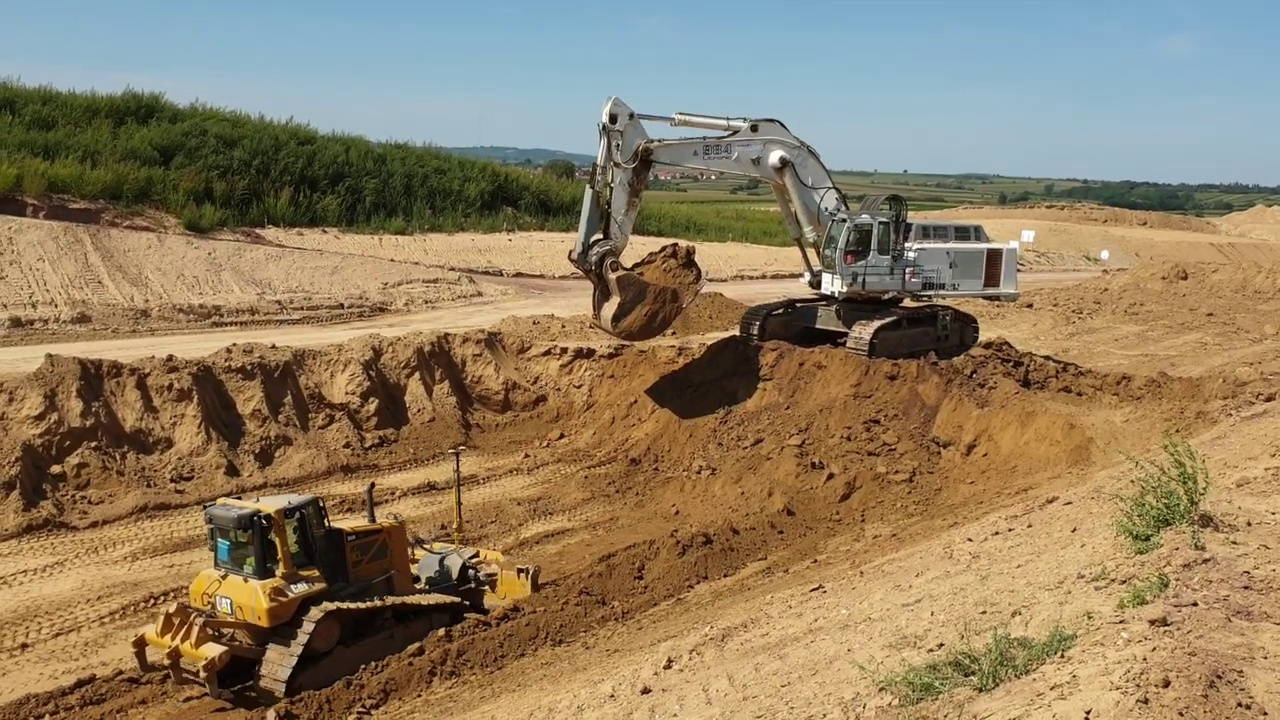bulldozer: (126, 438, 545, 705)
excavator: (560, 89, 1025, 367)
